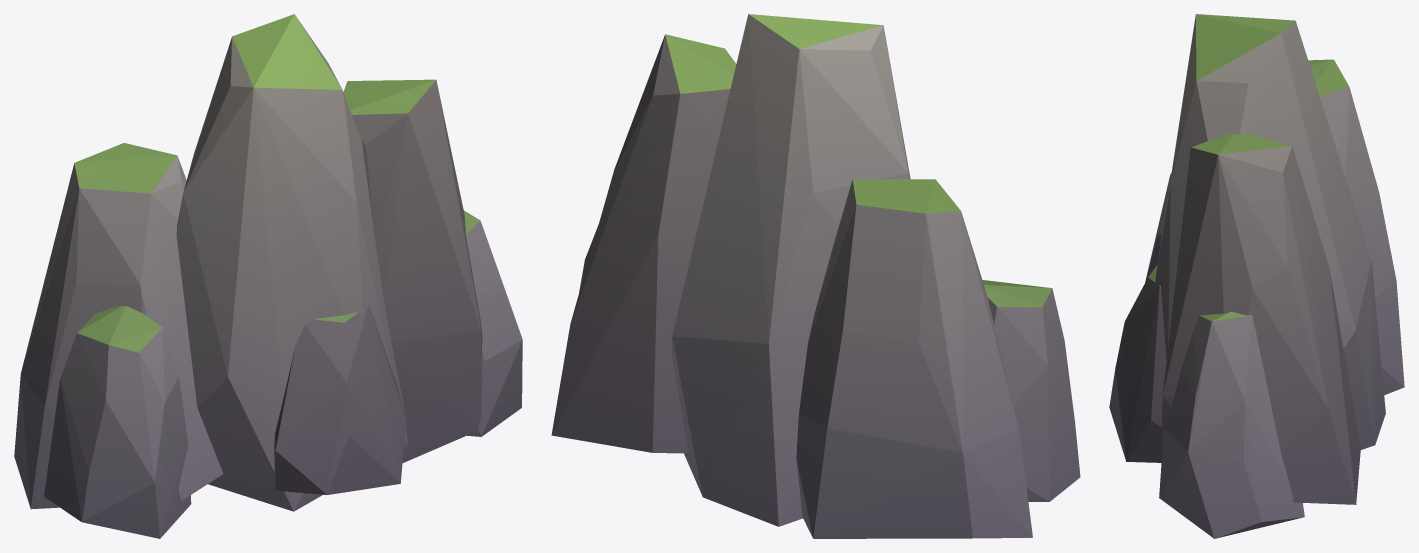
The model's file is cliff_a.glb.
The picture shows the model from 3 angles, left to right: view 1: azimuth 30°, elevation 25°; view 2: azimuth 150°, elevation 25°; view 3: azimuth 270°, elevation 25°; orthographic projection. The views are drawn at different scales.
Visible parts, largest first — view 1: cliff_a; view 2: cliff_a; view 3: cliff_a.
Boxes of the visible parts, <box> form: cliff_a: <box>14,14,522,538</box>; cliff_a: <box>551,14,1080,538</box>; cliff_a: <box>1109,14,1404,538</box>.
Size of the model in its own units: 14.13 by 12.73 by 7.92.
